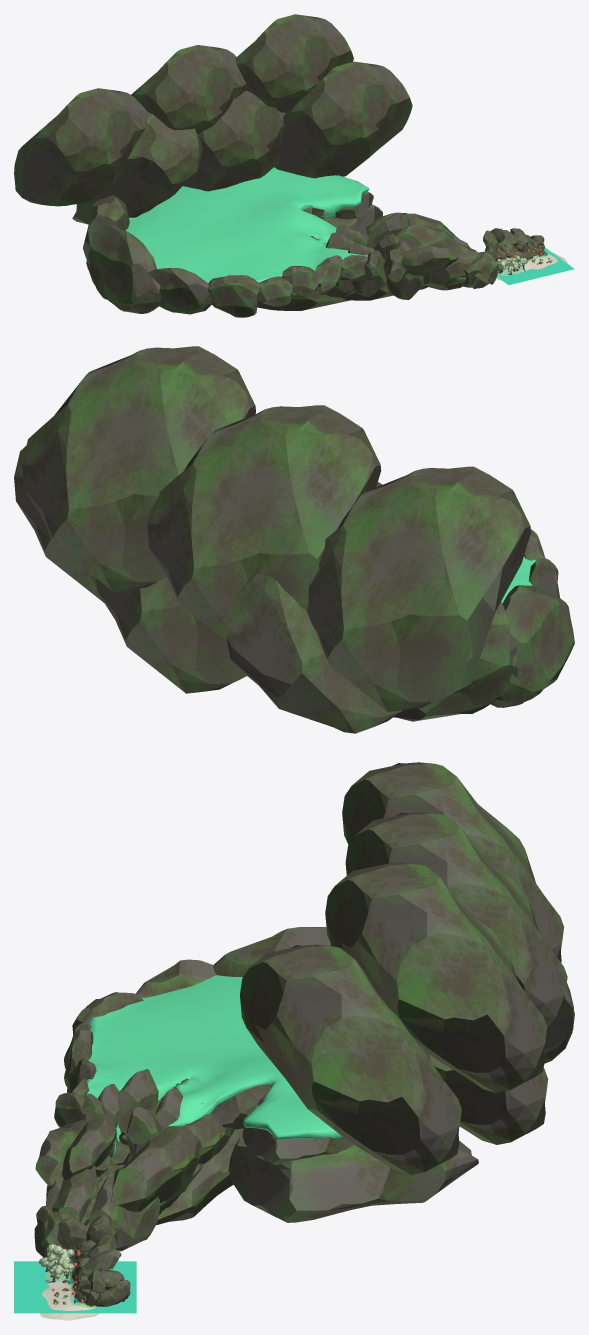
File: Playa y bosque.fbx
3 renders of one model, top to bottom at view 1: azimuth 30°, elevation 25°; view 2: azimuth 150°, elevation 25°; view 3: azimuth 270°, elevation 25°, orthographic. The views are drawn at different scales.
Visible parts, largest first — view 1: Plane, Piedra grieta.040, Piedra grieta.039, Piedra grieta.041, Piedra grieta.038, Piedra grieta.037, Piedra grieta.036, Piedra grieta.034, Piedra grieta.033, Piedra grieta.032, Piedra grieta.035, Piedra grieta.006 (+22 smaller); view 2: Piedra grieta.039, Piedra grieta.038, Piedra grieta.041, Piedra grieta.036, Piedra grieta.037, Piedra grieta.034, Piedra grieta.035, Piedra grieta.040, Piedra grieta.033; view 3: Piedra grieta.040, Piedra grieta.041, Plane, Piedra grieta.038, Piedra grieta.028, Piedra grieta.039, Piedra grieta.037, Piedra grieta.007, Plano agua, Piedra grieta.029, Piedra grieta.012, Piedra grieta.024 (+17 smaller).
Boxes of the visible parts, x1,y1,x2,y2 form: Plane: (125, 167, 369, 283); Piedra grieta.040: (274, 61, 412, 178); Piedra grieta.039: (14, 88, 149, 206); Piedra grieta.041: (235, 14, 353, 112); Piedra grieta.038: (131, 45, 246, 134); Piedra grieta.037: (182, 90, 285, 191); Piedra grieta.036: (72, 112, 202, 224); Piedra grieta.034: (86, 226, 160, 313); Piedra grieta.033: (148, 268, 212, 314); Piedra grieta.032: (208, 275, 260, 317); Piedra grieta.035: (83, 195, 129, 265); Piedra grieta.006: (401, 245, 458, 275); Piedra grieta.039: (307, 466, 530, 711); Piedra grieta.038: (147, 405, 381, 641); Piedra grieta.041: (22, 346, 255, 591); Piedra grieta.036: (224, 570, 401, 733); Piedra grieta.037: (96, 577, 246, 693); Piedra grieta.034: (491, 585, 574, 707); Piedra grieta.035: (393, 601, 519, 721); Piedra grieta.040: (14, 446, 103, 602); Piedra grieta.033: (528, 558, 559, 597); Piedra grieta.040: (240, 944, 461, 1174); Piedra grieta.041: (325, 862, 547, 1092); Plane: (84, 975, 342, 1157); Piedra grieta.038: (345, 812, 567, 1030); Piedra grieta.028: (228, 1137, 478, 1222); Piedra grieta.039: (342, 762, 563, 962); Piedra grieta.037: (330, 945, 548, 1144); Piedra grieta.007: (111, 1126, 200, 1211); Plano agua: (14, 1261, 136, 1313); Piedra grieta.029: (156, 1128, 243, 1225); Piedra grieta.012: (88, 1164, 160, 1251); Piedra grieta.024: (242, 1126, 353, 1165).
Bounding box in the file's own units: 242978 × 130200 × 179605.
